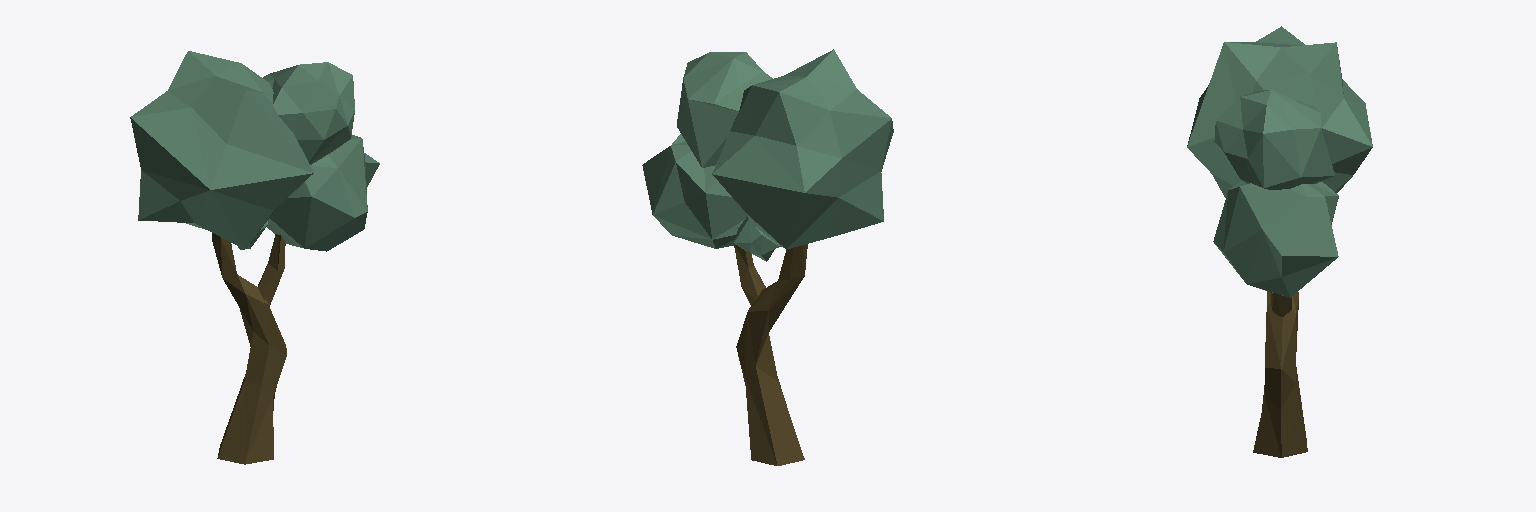
Rendered from tree3.obj.
3 renders of one model, left to right at view 1: azimuth 30°, elevation 25°; view 2: azimuth 150°, elevation 25°; view 3: azimuth 270°, elevation 25°, orthographic.
Parts seen in each view (by area): view 1: Leaves_3, Trunk, Leaves_2, Leaves, Trunk_1; view 2: Leaves_3, Trunk, Leaves_2, Leaves, Leaves_1, Trunk_1; view 3: Leaves_3, Leaves_2, Leaves, Trunk.
Part boxes in pixels (bbox=[...]): Leaves_3: bbox=[130, 51, 313, 249]; Trunk: bbox=[212, 233, 286, 464]; Leaves_2: bbox=[267, 135, 379, 251]; Leaves: bbox=[263, 62, 354, 164]; Trunk_1: bbox=[258, 234, 285, 306]; Leaves_3: bbox=[712, 49, 893, 249]; Trunk: bbox=[736, 244, 807, 465]; Leaves_2: bbox=[642, 134, 746, 248]; Leaves: bbox=[677, 52, 772, 167]; Leaves_1: bbox=[734, 217, 781, 261]; Trunk_1: bbox=[734, 245, 765, 304]; Leaves_3: bbox=[1187, 26, 1372, 197]; Leaves_2: bbox=[1213, 180, 1338, 297]; Leaves: bbox=[1214, 90, 1334, 189]; Trunk: bbox=[1253, 291, 1307, 457].
Size of the model in its own units: 248 by 370 by 160.